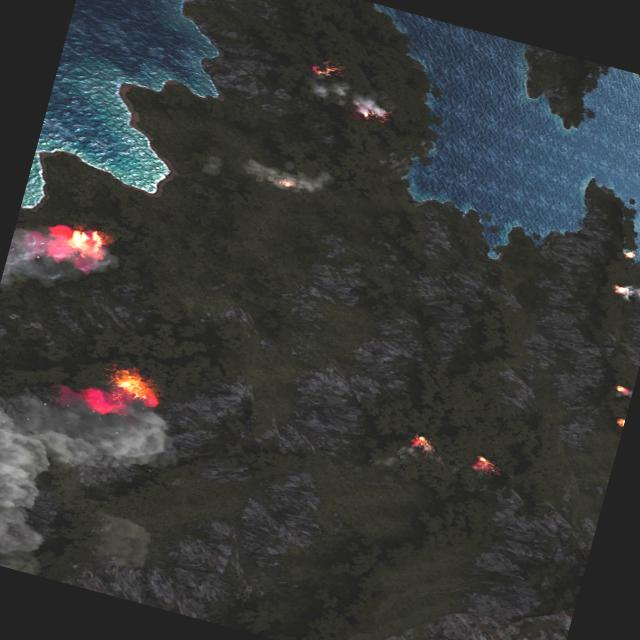fire: (80, 358, 165, 424), (40, 218, 111, 276), (308, 58, 342, 80), (354, 104, 388, 125), (408, 434, 435, 454), (470, 455, 494, 475), (371, 106, 391, 122), (276, 176, 294, 188), (620, 248, 634, 259), (612, 284, 625, 294), (614, 386, 628, 395), (614, 416, 624, 428)
smoke: (0, 364, 190, 603), (0, 211, 129, 340), (238, 154, 334, 204), (302, 72, 390, 118), (616, 278, 640, 306), (196, 154, 222, 178)
